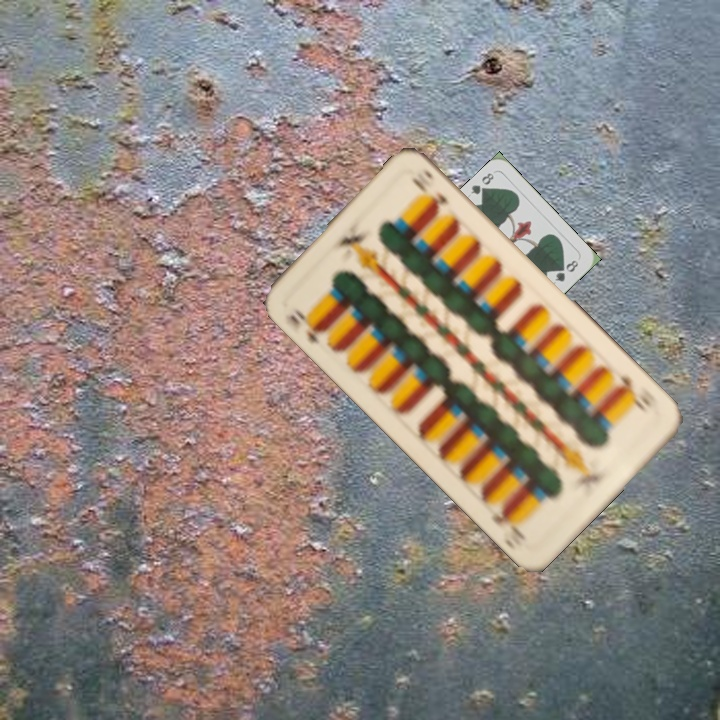E10: (286, 304, 329, 348), (610, 371, 652, 415)
G8: (467, 169, 496, 199)
